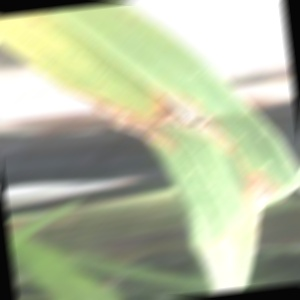Brown_Spot: (68, 82, 171, 165), (149, 74, 234, 172), (237, 163, 295, 233), (199, 221, 249, 284)
